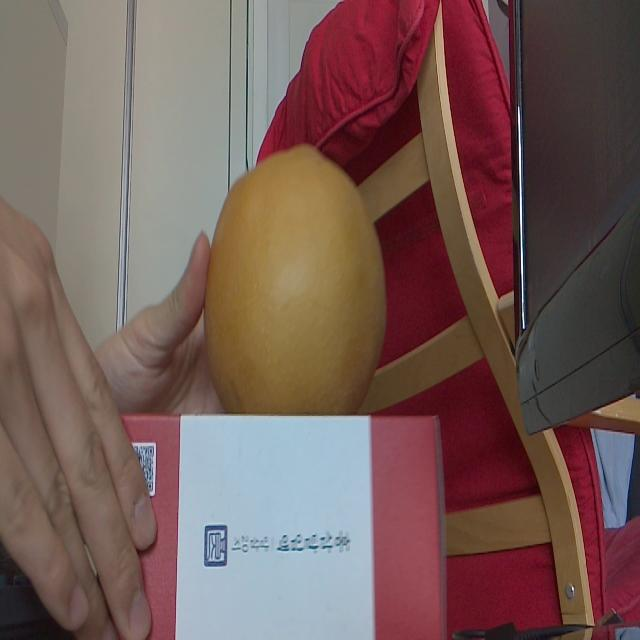pear: (206, 141, 388, 418)
